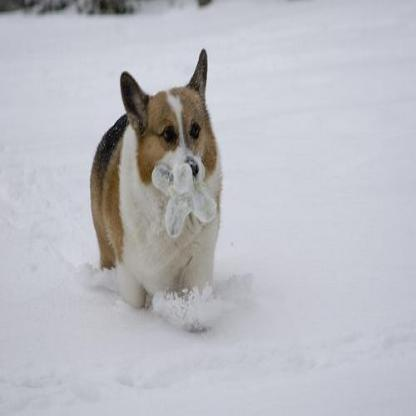Pembroke: (87, 47, 223, 315)
